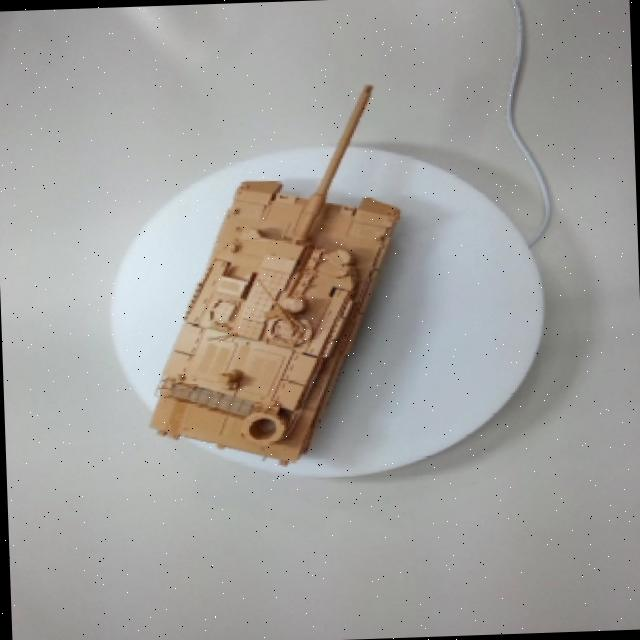korea tank: (114, 79, 446, 513)
